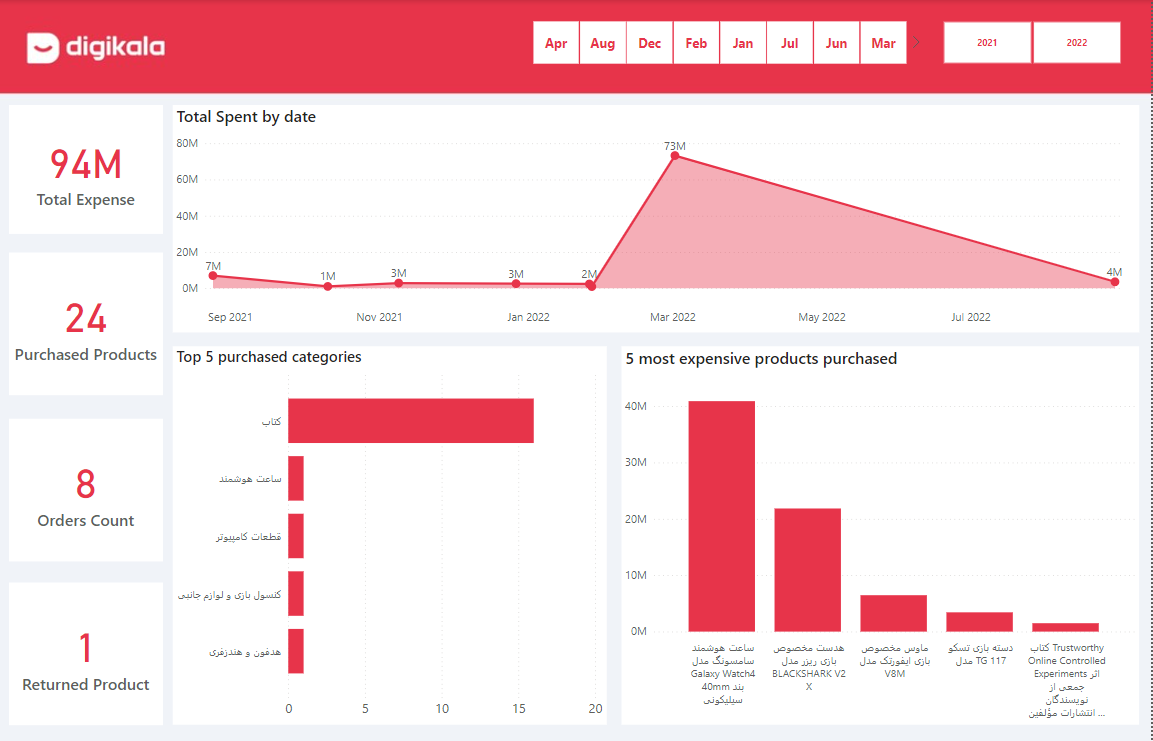

What the dashboard file says about the page in this screenshot:
{"tool":"powerbi","page":{"name":"Page 1","canvas":[1550,1000],"ordinal":0},"visuals":[{"type":"card","fields":{"Values":["Calculation.Returned Product"]},"box":[20.1,780.6,206,191],"z":1000},{"type":"stackedAreaChart","title":"Total Spent by date","fields":{"Y":["Calculation.Total Expense"],"Category":["orders_history.date"]},"box":[239.5,140.7,1294.8,304.9],"z":4000},{"type":"columnChart","title":"5 most expensive products purchased","fields":{"Y":["Sum(purchased_products.price)"],"Category":["purchased_products.title_fa"]},"box":[840.9,464,693.5,507.5],"z":5000},{"type":"clusteredBarChart","title":"Top 5 purchased categories","fields":{"Category":["purchased_products.brand"],"Y":["Calculation.Total categories"]},"box":[239.5,464,581.2,507.5],"z":6000},{"type":"slicer","fields":{"Values":["Dates.Year"]},"box":[1246.2,21.8,288.1,70.4],"z":6001},{"type":"slicer","fields":{"Values":["Dates.Month Name"]},"box":[696.8,21.8,549.4,70.4],"z":6002},{"type":"card","fields":{"Values":["Calculation.Orders_count"]},"box":[20.1,561.1,206,191],"z":6003},{"type":"card","fields":{"Values":["Calculation.Purchased products"]},"box":[20.1,338.4,206,191],"z":6004},{"type":"card","fields":{"Values":["Calculation.Total Expense"]},"box":[20.1,140.7,206,172.5],"z":6005}]}

Visuals, with their boxes in screenshot pixels (x1, y1, x2, y2), scaled from the page's 1550x1000 canvas onto the 1153x741 screenshot:
card - Calculation.Returned Product: [left=15, top=578, right=168, bottom=720]
"Total Spent by date" stackedAreaChart: [left=178, top=104, right=1141, bottom=330]
"5 most expensive products purchased" columnChart: [left=626, top=344, right=1141, bottom=720]
"Top 5 purchased categories" clusteredBarChart: [left=178, top=344, right=610, bottom=720]
slicer - Dates.Year: [left=927, top=16, right=1141, bottom=68]
slicer - Dates.Month Name: [left=518, top=16, right=927, bottom=68]
card - Calculation.Orders_count: [left=15, top=416, right=168, bottom=557]
card - Calculation.Purchased products: [left=15, top=251, right=168, bottom=392]
card - Calculation.Total Expense: [left=15, top=104, right=168, bottom=232]
